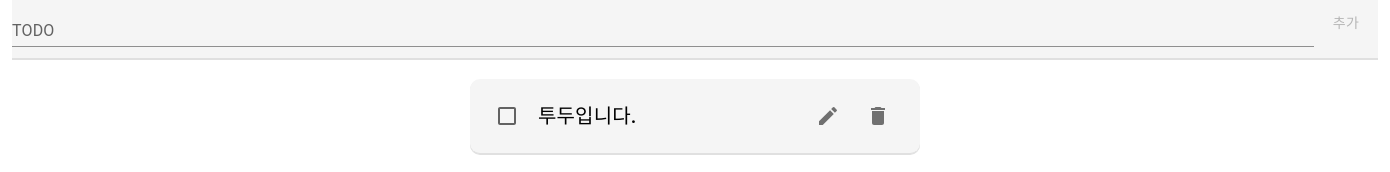
Test: <Todo/> › 수정 버튼 클릭했을시 수정 컴포넌트 랜더링
The image size is (1390, 172).
Click the button with test id "modify-button": (828, 116) [808,96,848,136]
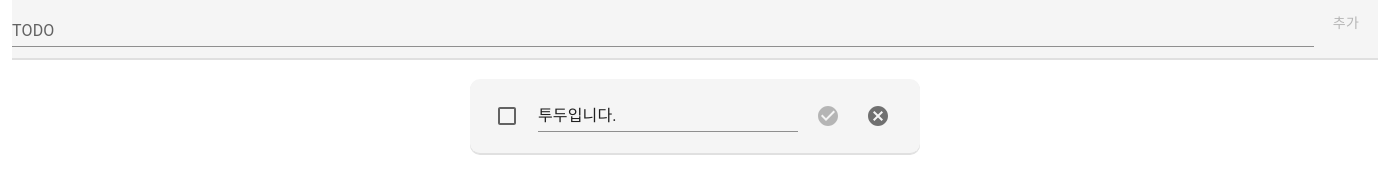
Expected: the field with test id "modify-input" is shown, [538,100,798,132]
